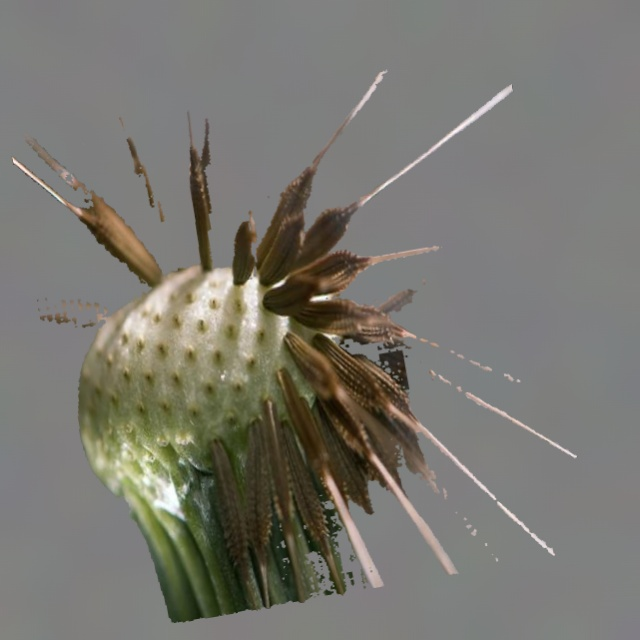dandelion: (12, 70, 576, 622)
